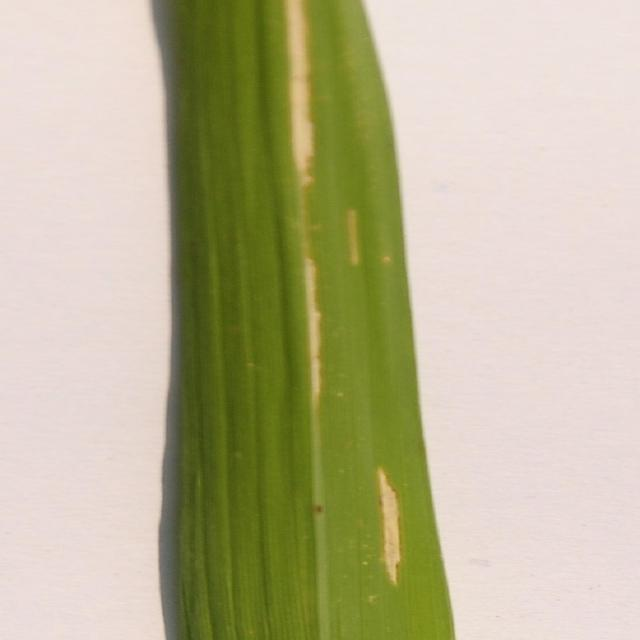Bacterial leaf blight: (280, 3, 330, 414), (364, 459, 414, 591), (338, 195, 368, 287)
